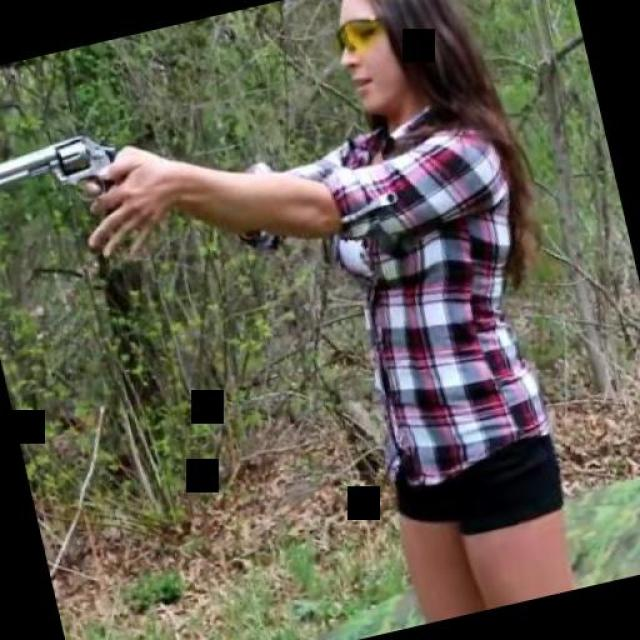gun: (0, 118, 161, 252)
